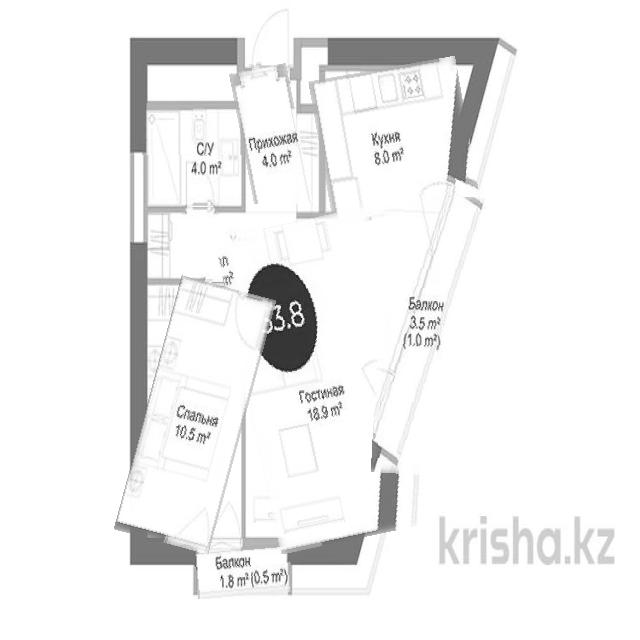balcony: (374, 194, 482, 476), (195, 544, 292, 597)
bathroom: (142, 103, 244, 207)
hallway: (141, 204, 302, 280), (236, 65, 306, 211)
kitchen: (314, 62, 475, 222)
living_room: (230, 213, 419, 548), (130, 279, 260, 550)
